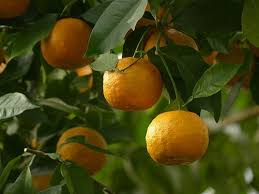orange: (145, 109, 212, 168), (36, 16, 101, 71), (102, 57, 164, 113), (52, 122, 109, 175)
